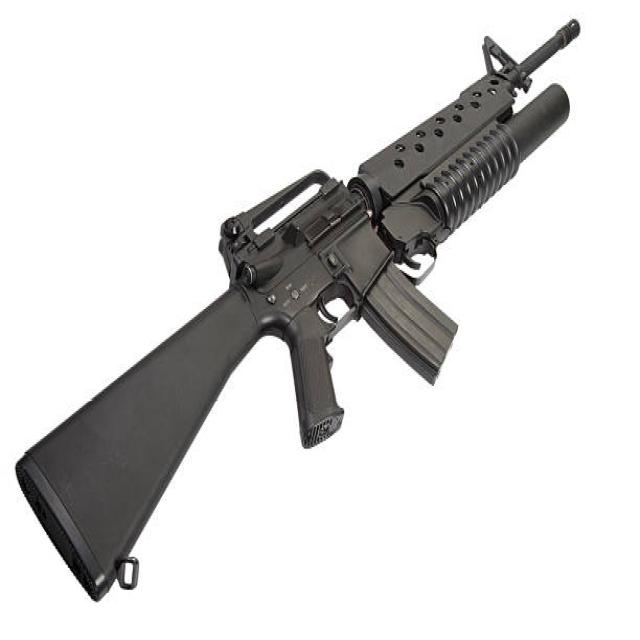rifle: (11, 17, 586, 624)
